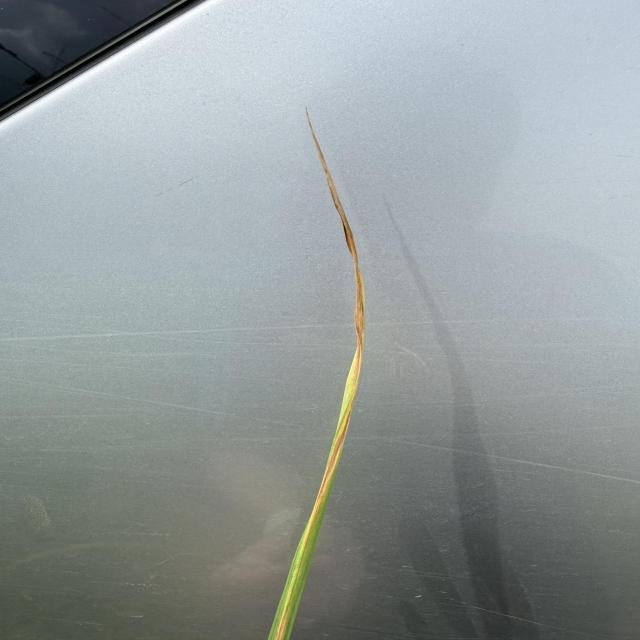Chay bia la: (306, 110, 367, 523)
